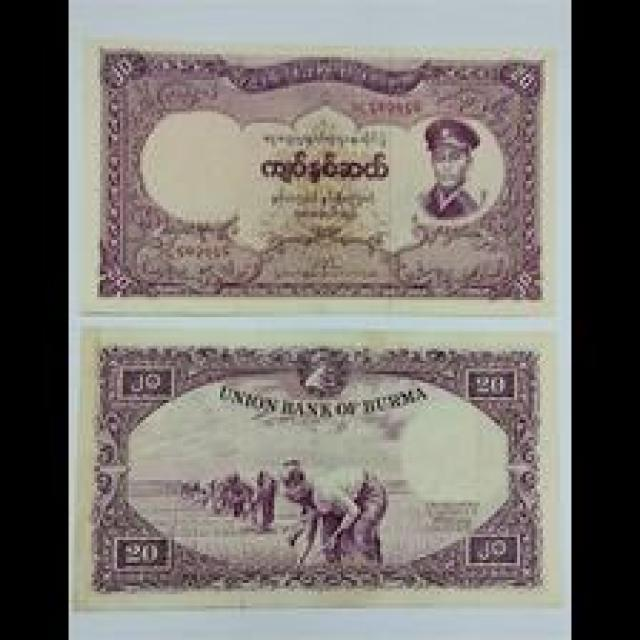banknote: (72, 337, 557, 609), (94, 43, 549, 300)
